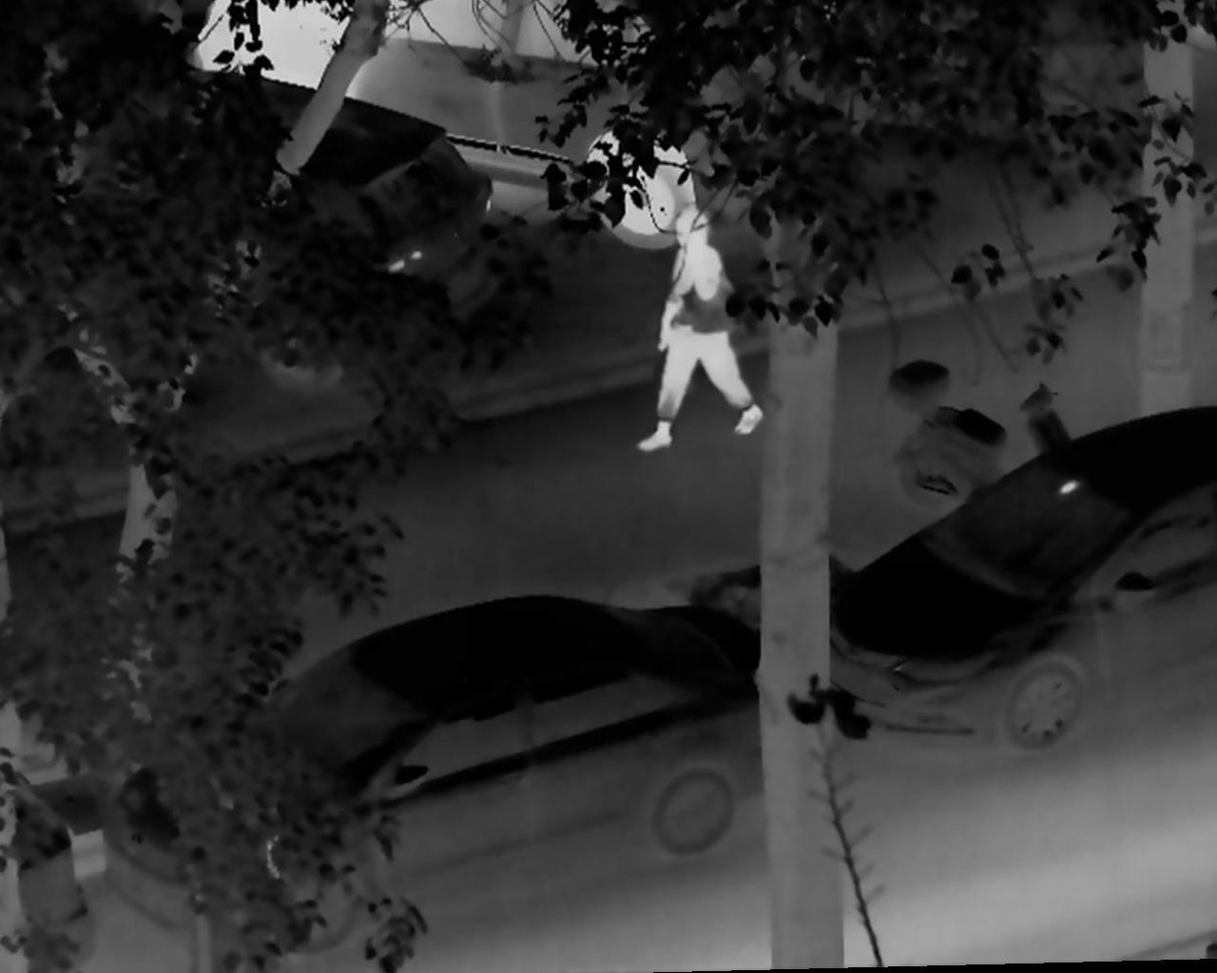person: (630, 210, 764, 451)
